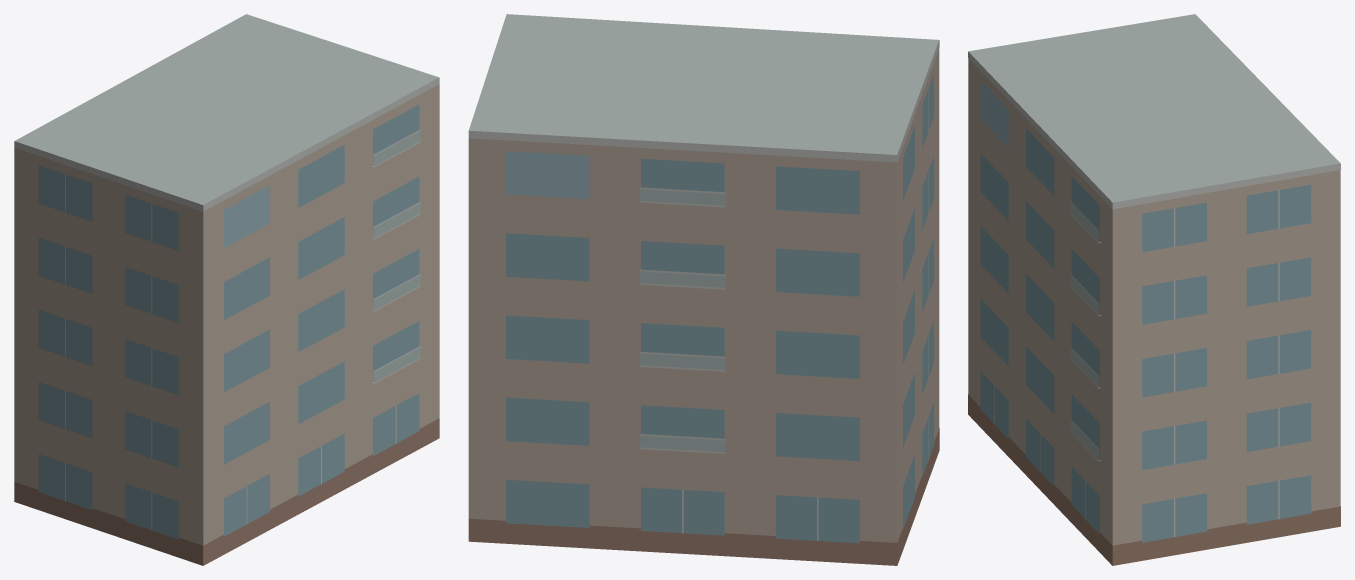
Rendered from survey-upis-32860455.glb.
3 views of the same model, side by side, from view 1: azimuth 30°, elevation 25°; view 2: azimuth 150°, elevation 25°; view 3: azimuth 270°, elevation 25° (orthographic). The views are drawn at different scales.
Visible parts, largest first — view 1: survey-upis-32860455.tmp; view 2: survey-upis-32860455.tmp; view 3: survey-upis-32860455.tmp.
Part boxes in pixels (left/top/right/bottom): survey-upis-32860455.tmp: left=14, top=14, right=439, bottom=565; survey-upis-32860455.tmp: left=468, top=14, right=939, bottom=565; survey-upis-32860455.tmp: left=968, top=14, right=1340, bottom=565.
Bounding box in the file's own units: 15.05 × 13.5 × 12.56.
